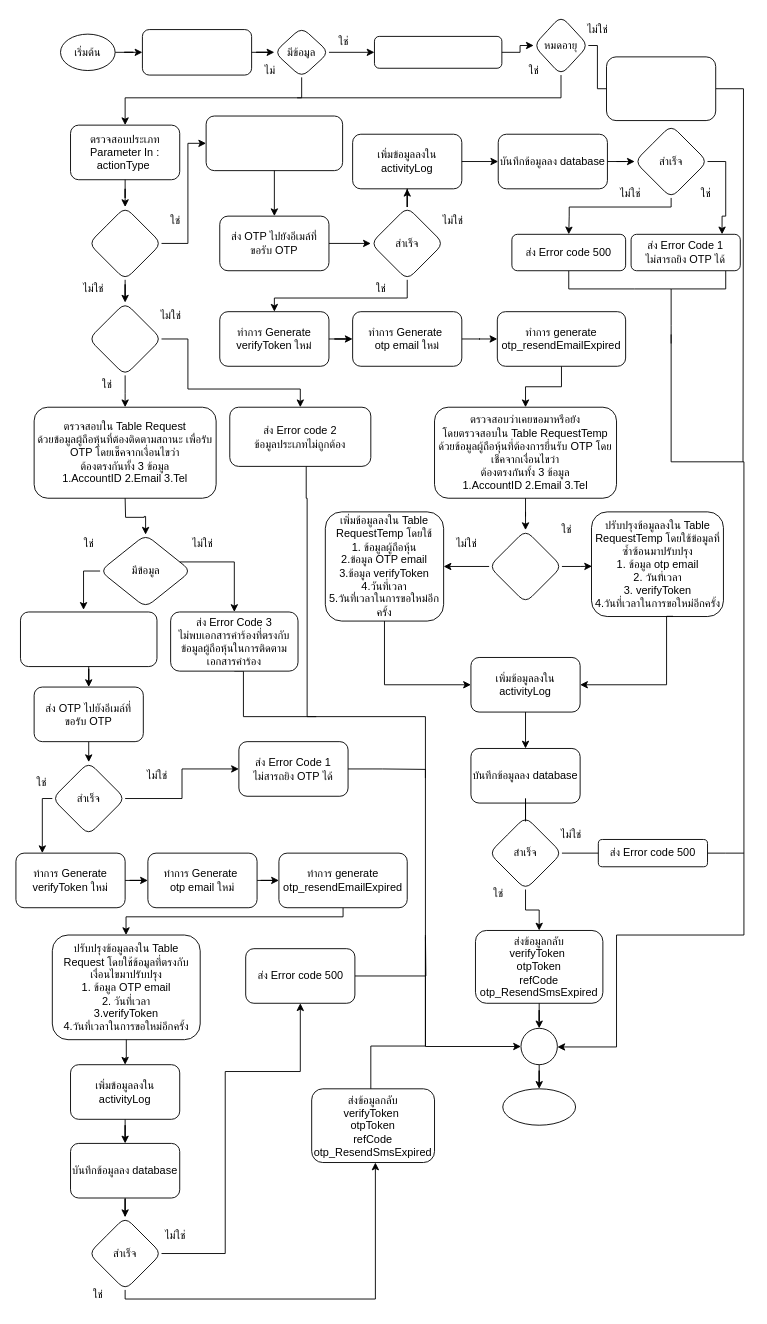
Some shapes in this 767 by 1324 pixel diagram are drawn without their labels. The shapes that lost their labels are listed below. From the top down, each one's centre as x and y in pixels, then its label:
At point (197, 52): "ตรวจสอบว่า verifyToken นี้เคยมีการขอ OTP เเล้วหรือไม่".
At point (438, 51): "ตรวจสอบเวลาหมดอายุ การส่งอีกครั้ง".
At point (661, 88): "ส่ง Error code 4 ยังไม่ถึงเวลาในการร้องขอ OTP ใหม่อีกครั้ง".
At point (274, 143): "ดึงข้อมูลที่ใช้ สำหรับส่งข้อมูล OTP ด้วยอีเมล์จาก hard code".
At point (125, 243): "เป็น R".
At point (125, 338): "เป็น F".
At point (525, 566): "ข้อมูลผู้ถือ หุ้นซ้ำซ้อน".
At point (88, 639): "ดึงข้อมูลที่ใช้ สำหรับส่งข้อมูล OTP ด้วยอีเมล์จาก App setting".
At point (539, 1106): "สิ้นสุด".
